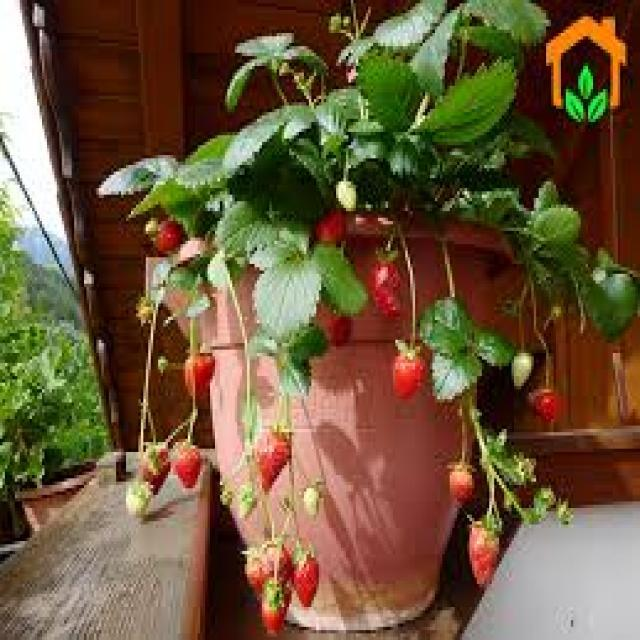Fruta sana: (252, 428, 294, 492), (243, 545, 299, 592), (370, 257, 406, 323), (291, 544, 325, 602), (260, 574, 290, 638), (468, 530, 497, 594), (322, 292, 352, 348), (392, 342, 422, 398), (181, 354, 217, 400), (317, 202, 348, 254), (180, 439, 202, 493), (452, 462, 479, 505), (146, 446, 170, 494), (541, 386, 562, 428), (158, 228, 184, 248)
